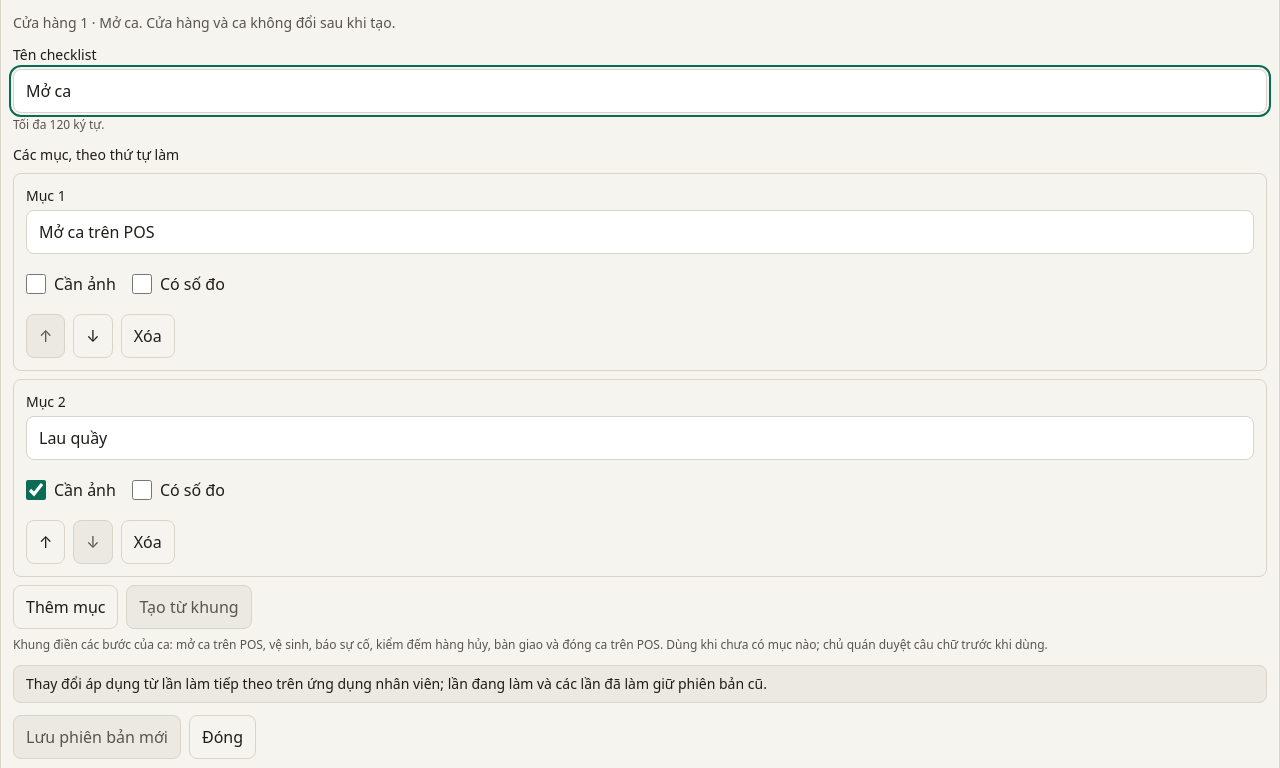
Scenario: the checklist editor › asks for the unit of a reading
Click the checkbox labelled "Có số đo" below "Mục 1". click: [142, 284]
box: [132,274,152,294]
(page scrolled)
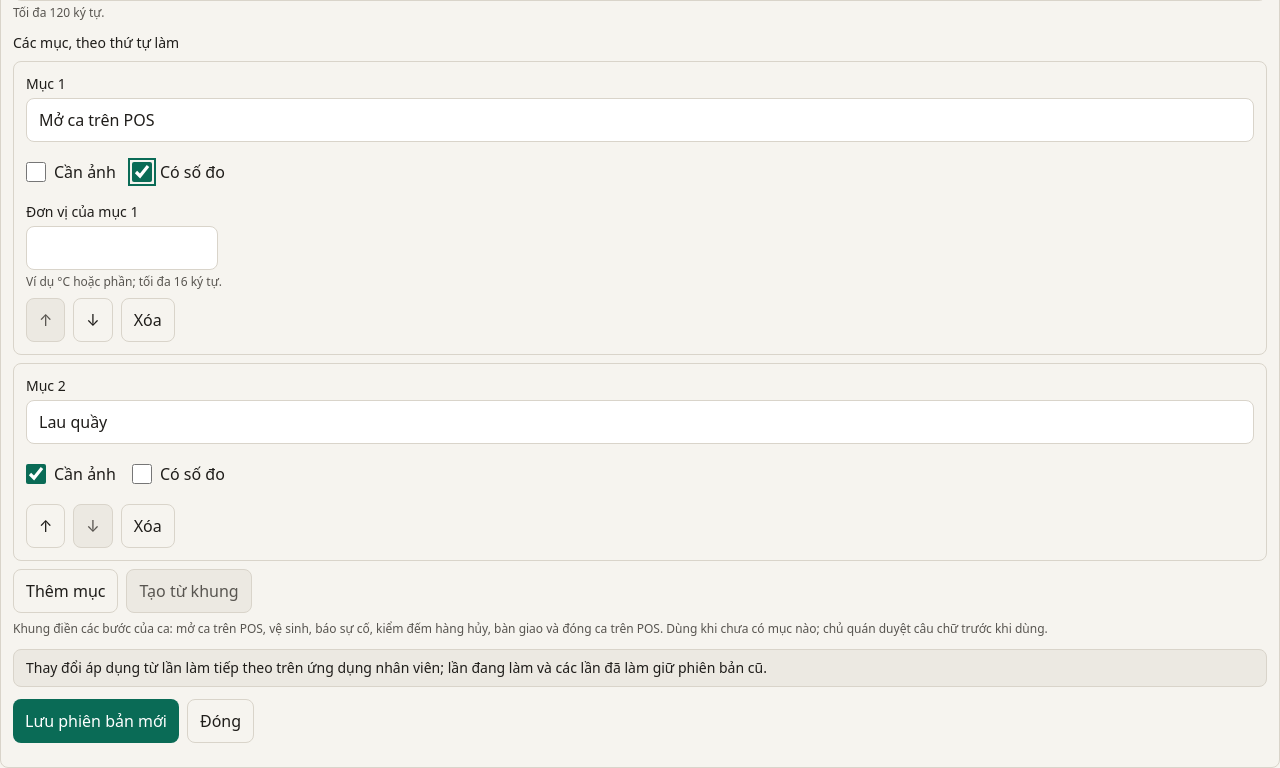
Click the button "Lưu phiên bản mới". click: [96, 721]
box: [13,699,179,743]
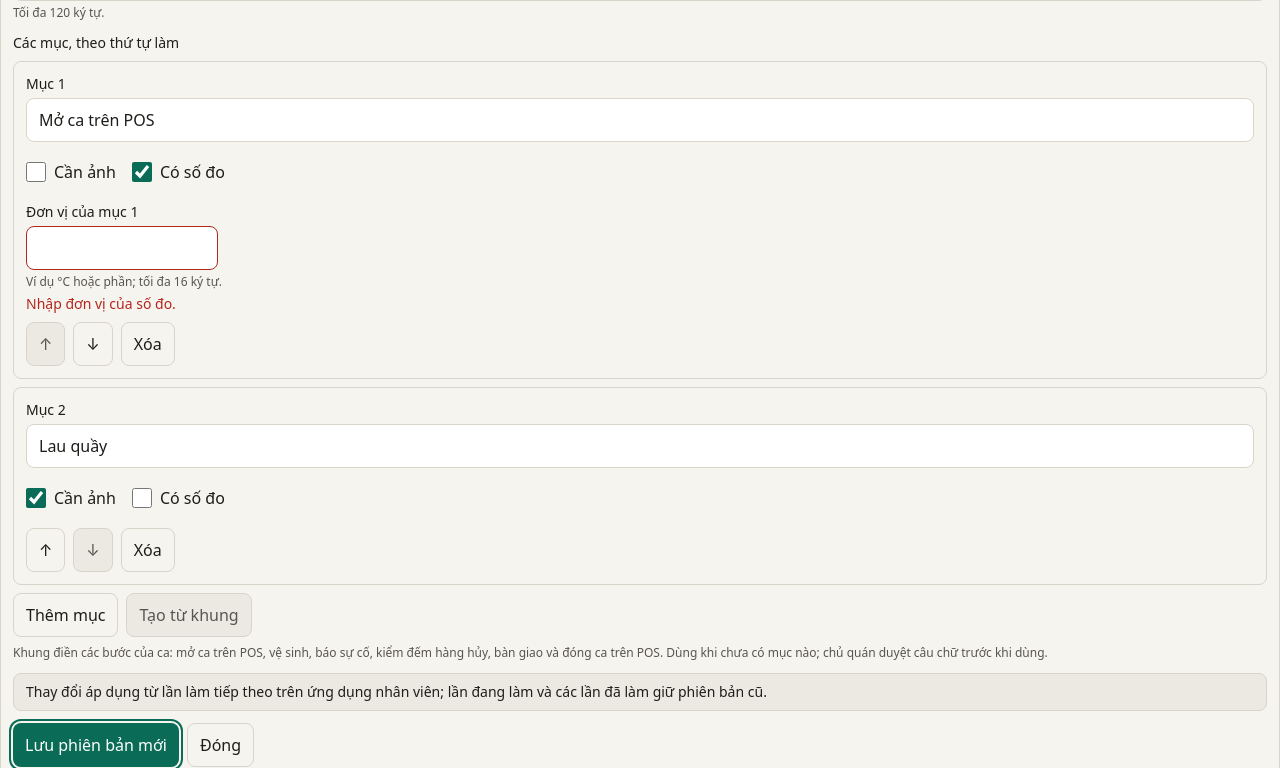
Result: the text "Nhập đơn vị của số đo." is shown at [26,294,176,313]
